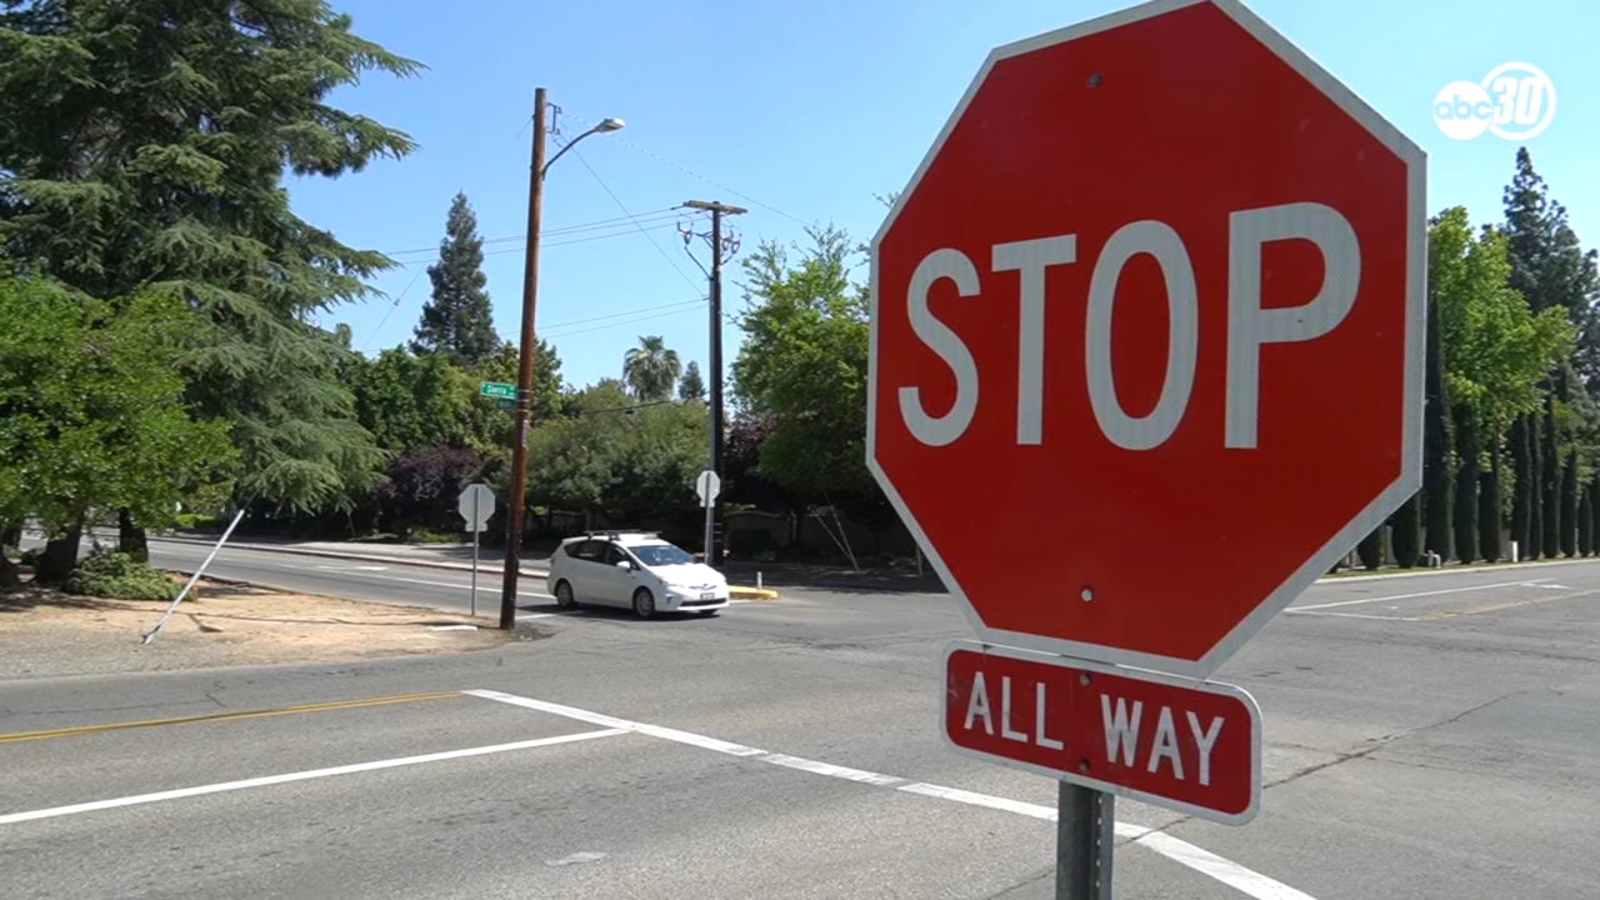stop_sign: (866, 3, 1427, 684)
